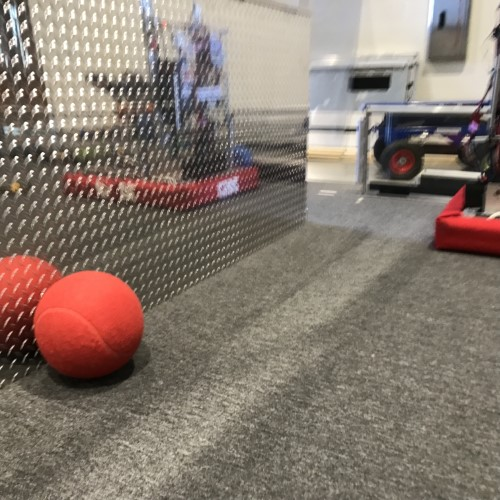red: (31, 267, 147, 382)
